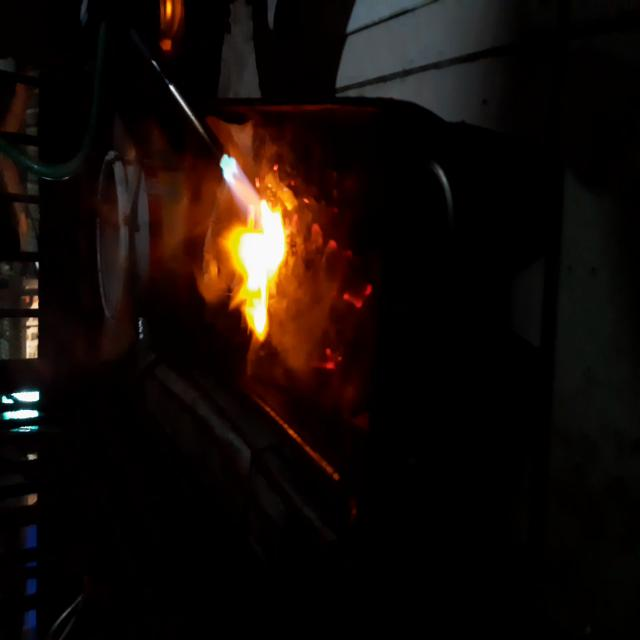Fire: (219, 137, 293, 350), (299, 192, 376, 384)
